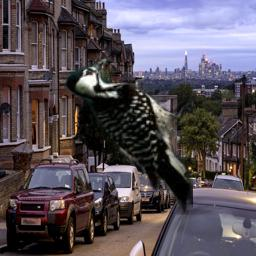Woodpecker: (63, 55, 193, 215)
